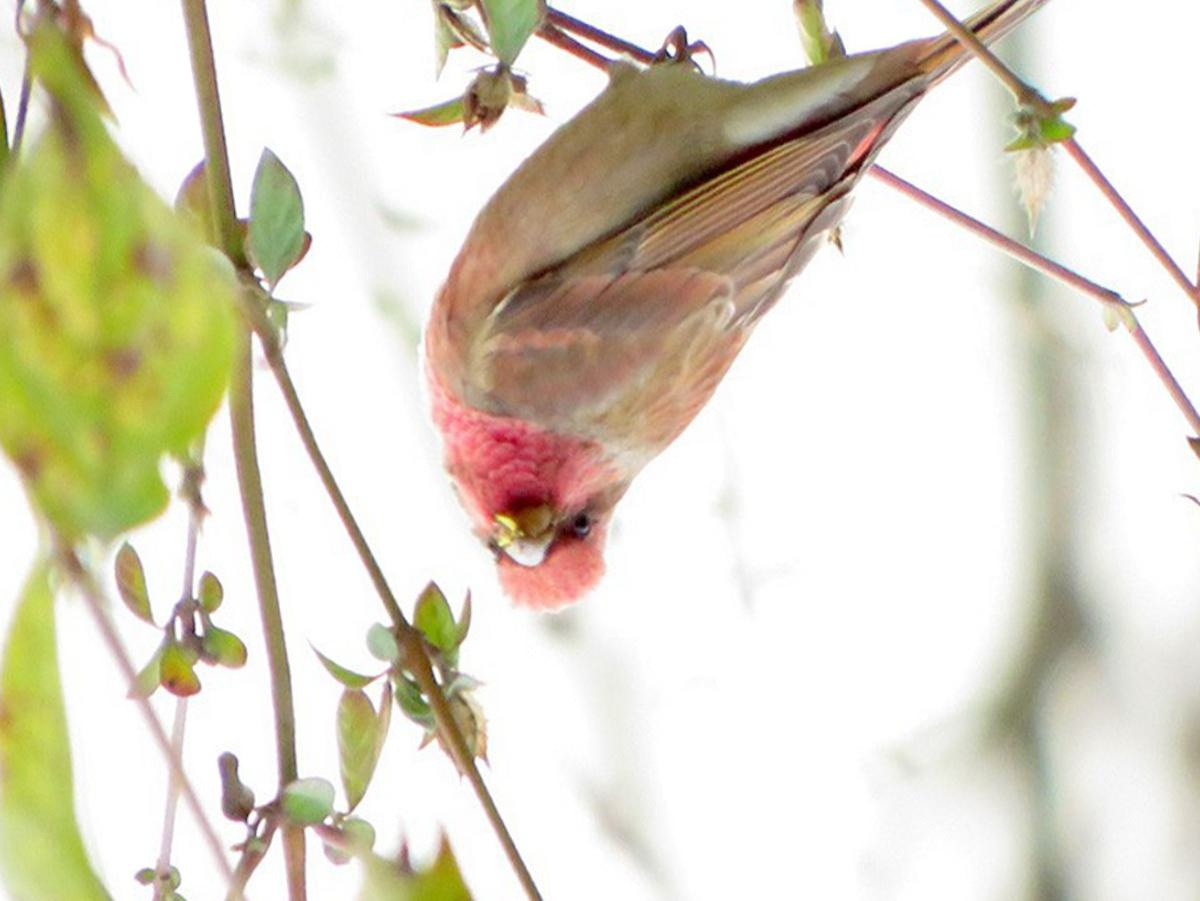rosefinch: (440, 36, 945, 618)
